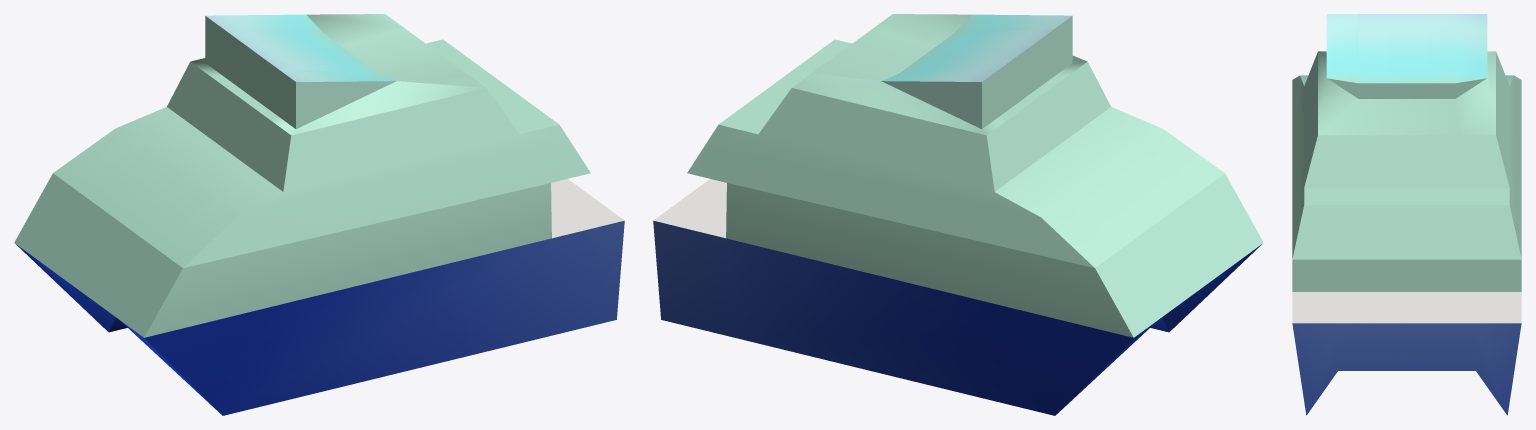
File: ferry.fbx
3 views of the same model, side by side, from view 1: azimuth 30°, elevation 25°; view 2: azimuth 150°, elevation 25°; view 3: azimuth 270°, elevation 25° (orthographic). The views are drawn at different scales.
Parts seen in each view (by area): view 1: geo_Boat; view 2: geo_Boat; view 3: geo_Boat.
Boxes of the visible parts, box(x1,y1,x2,y2) form: geo_Boat: box(14, 14, 624, 415); geo_Boat: box(653, 14, 1263, 415); geo_Boat: box(1292, 14, 1521, 415).
Bounding box in the file's own units: 6.95 × 4.21 × 3.26.
